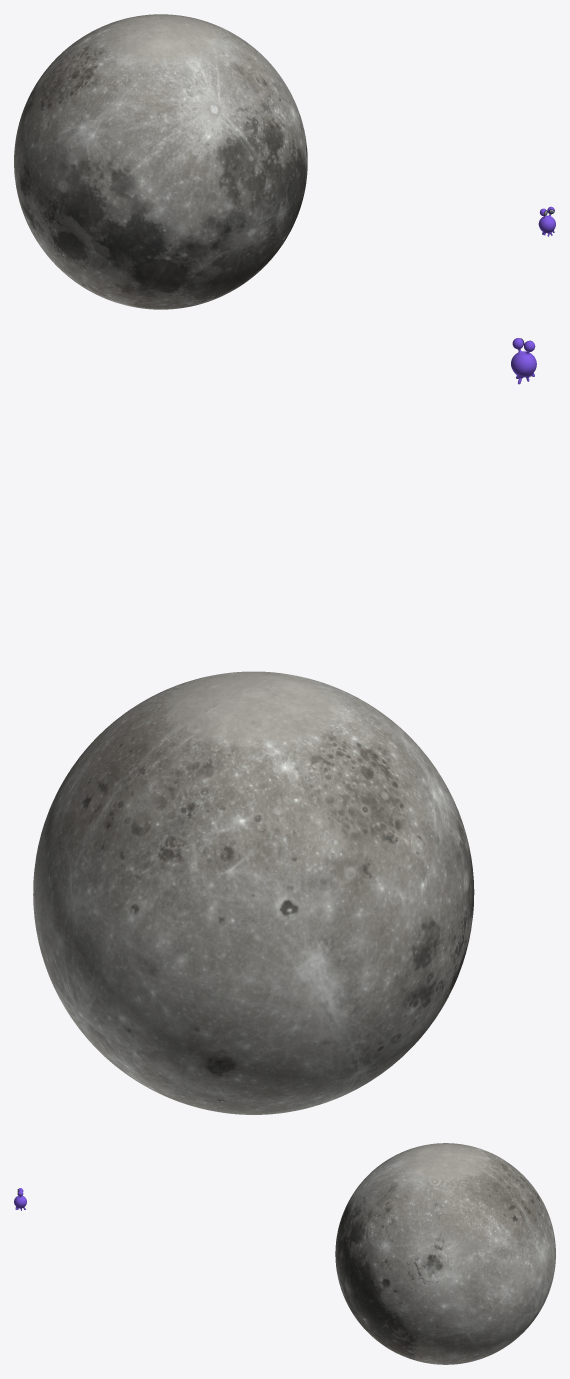
Rendered from alien-moon.gltf.
3 renders of one model, top to bottom at view 1: azimuth 30°, elevation 25°; view 2: azimuth 150°, elevation 25°; view 3: azimuth 270°, elevation 25°, orthographic. The views are drawn at different scales.
Visible parts, largest first — view 1: Moon; view 2: Moon; view 3: Moon.
Boxes of the visible parts, <box> form: Moon: <box>14,14,307,309</box>; Moon: <box>33,671,474,1114</box>; Moon: <box>335,1143,555,1364</box>.
Bounding box in the file's own units: 47.57 × 48.26 × 117.
Materials: 4 (3 with a texture image).
